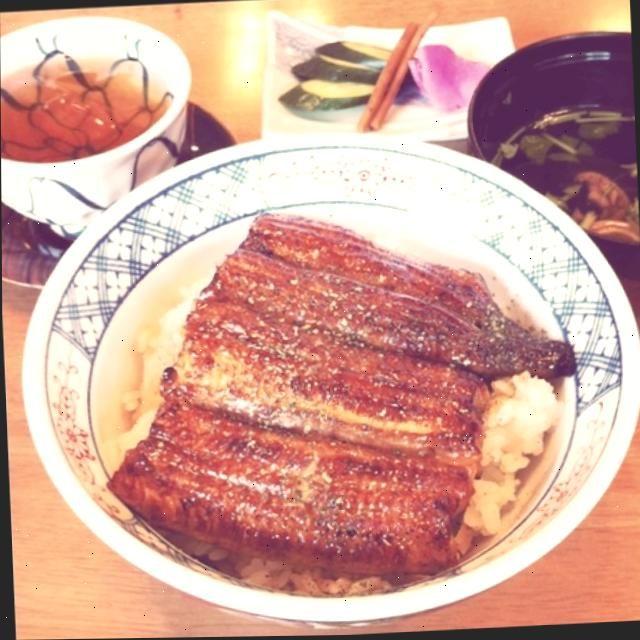熟制海鲜: (9, 118, 640, 640)
